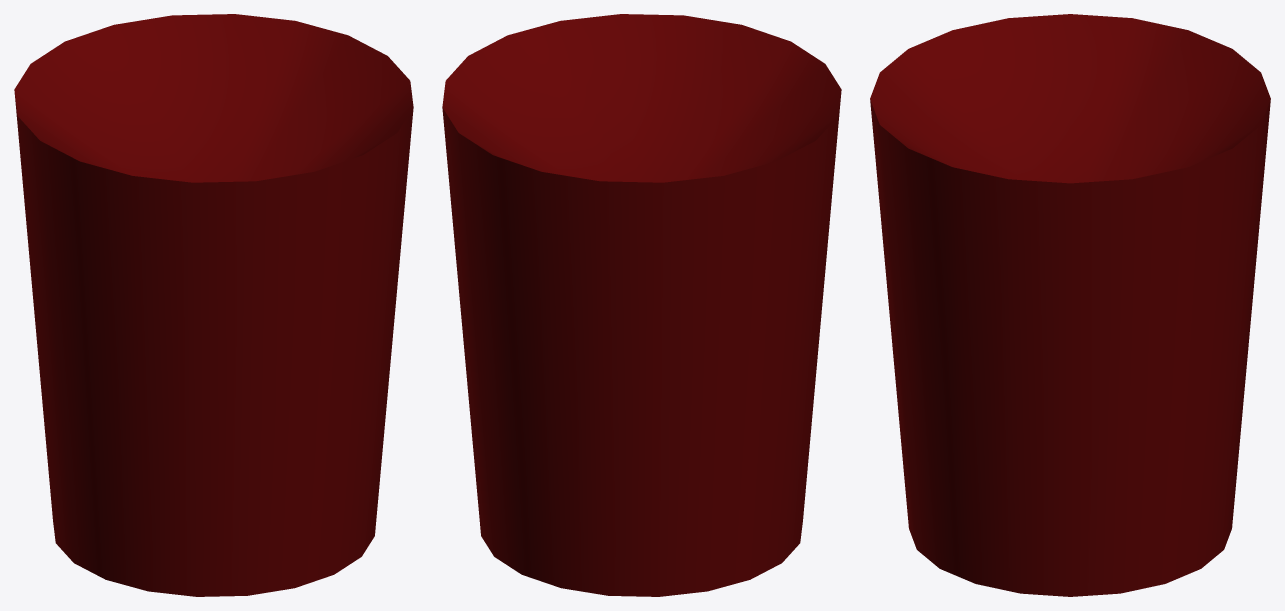
File: redcupv1.fbx
The picture shows the model from 3 angles, left to right: view 1: azimuth 30°, elevation 25°; view 2: azimuth 150°, elevation 25°; view 3: azimuth 270°, elevation 25°; orthographic projection.
Parts seen in each view (by area): view 1: pCylinder1; view 2: pCylinder1; view 3: pCylinder1.
Part boxes in pixels (<box>): pCylinder1: <box>14,14,413,596</box>; pCylinder1: <box>442,14,841,596</box>; pCylinder1: <box>870,14,1270,596</box>.
Size of the model in its own units: 2.48 by 2.94 by 2.48.
